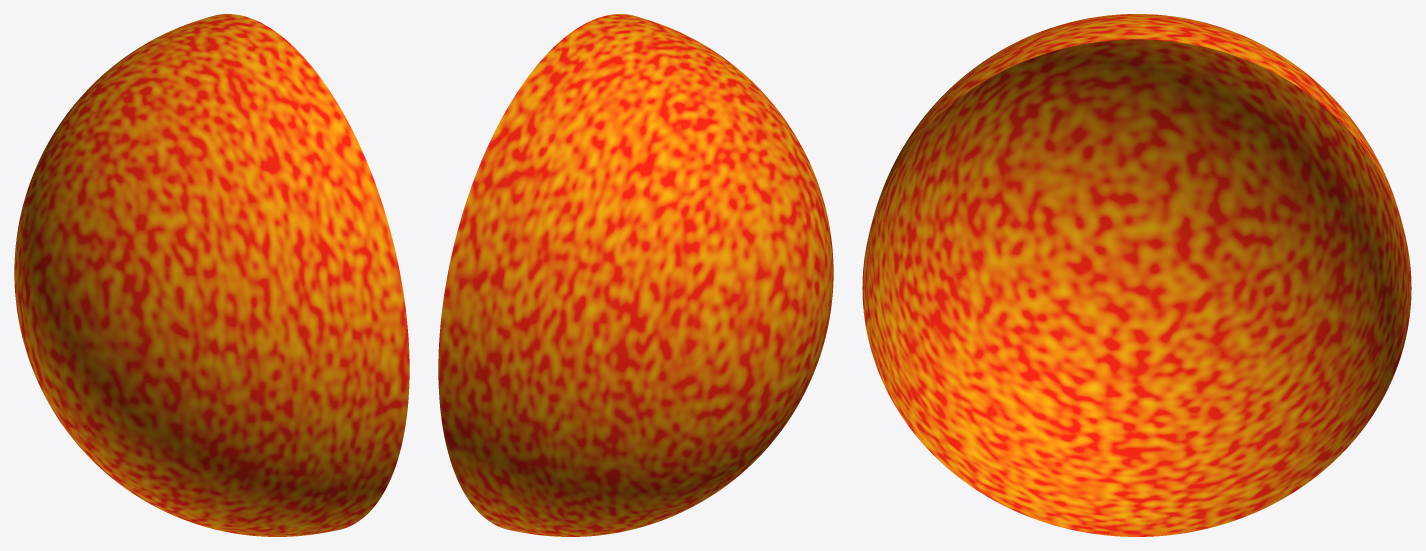
Rendered from mars_core.glb.
The picture shows the model from 3 angles, left to right: view 1: azimuth 30°, elevation 25°; view 2: azimuth 150°, elevation 25°; view 3: azimuth 270°, elevation 25°; orthographic projection. The views are drawn at different scales.
Parts seen in each view (by area): view 1: Planet.004; view 2: Planet.004; view 3: Planet.004.
Part boxes in pixels (<box>): Planet.004: <box>14,14,409,536</box>; Planet.004: <box>438,14,833,536</box>; Planet.004: <box>862,14,1411,536</box>.
Bounding box in the file's own units: 0.6925 × 1.39 × 1.39.
1 material, 1 textured.
